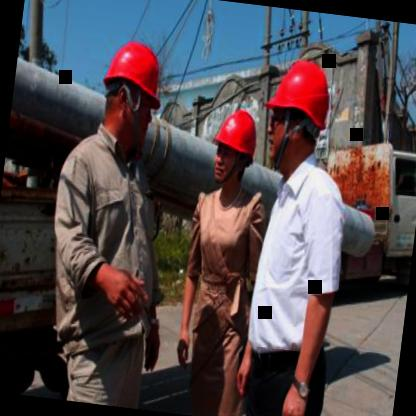helmet: (257, 45, 342, 177), (86, 30, 170, 158), (203, 100, 263, 192)
